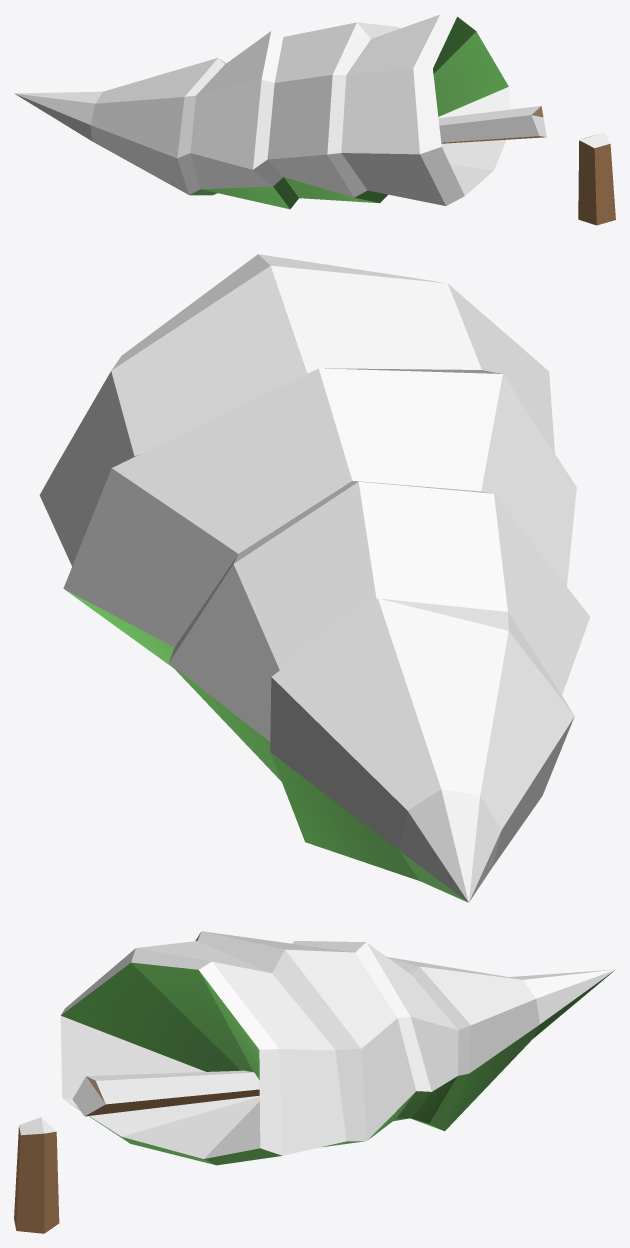
File: Fir_Tree_crk_m_Snow_02_LOD.fbx
3 views of the same model, one above another, from view 1: azimuth 30°, elevation 25°; view 2: azimuth 150°, elevation 25°; view 3: azimuth 270°, elevation 25° (orthographic). The views are drawn at different scales.
Parts seen in each view (by area): view 1: Fir_Tree_crk_m_Snow_02_LOD0; view 2: Fir_Tree_crk_m_Snow_02_LOD0; view 3: Fir_Tree_crk_m_Snow_02_LOD0.
Boxes of the visible parts, left/top/right/bottom form: Fir_Tree_crk_m_Snow_02_LOD0: left=14, top=14, right=615, bottom=225; Fir_Tree_crk_m_Snow_02_LOD0: left=39, top=254, right=589, bottom=902; Fir_Tree_crk_m_Snow_02_LOD0: left=14, top=931, right=615, bottom=1233.
Size of what is drawn, in the model's own units: 516 by 267 by 598.
